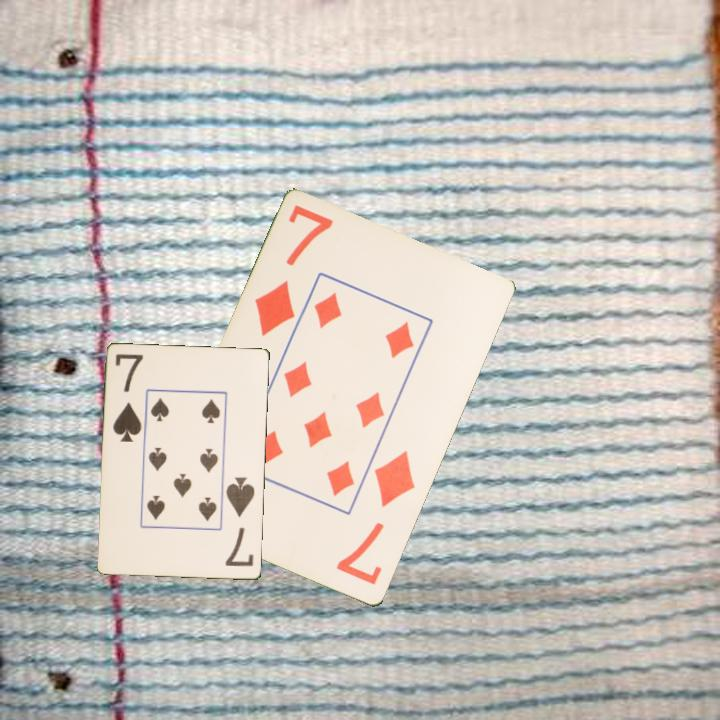7d: (333, 447, 419, 589), (251, 202, 337, 340)
7s: (222, 473, 258, 570), (110, 350, 146, 445)
